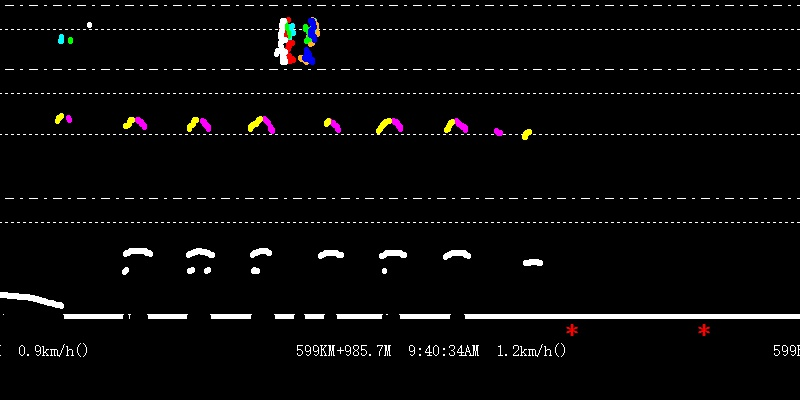J: (272, 1, 320, 67)
face_down: (55, 24, 65, 44)
star: (563, 323, 580, 337), (695, 322, 712, 336)
y_p: (109, 106, 484, 273)
